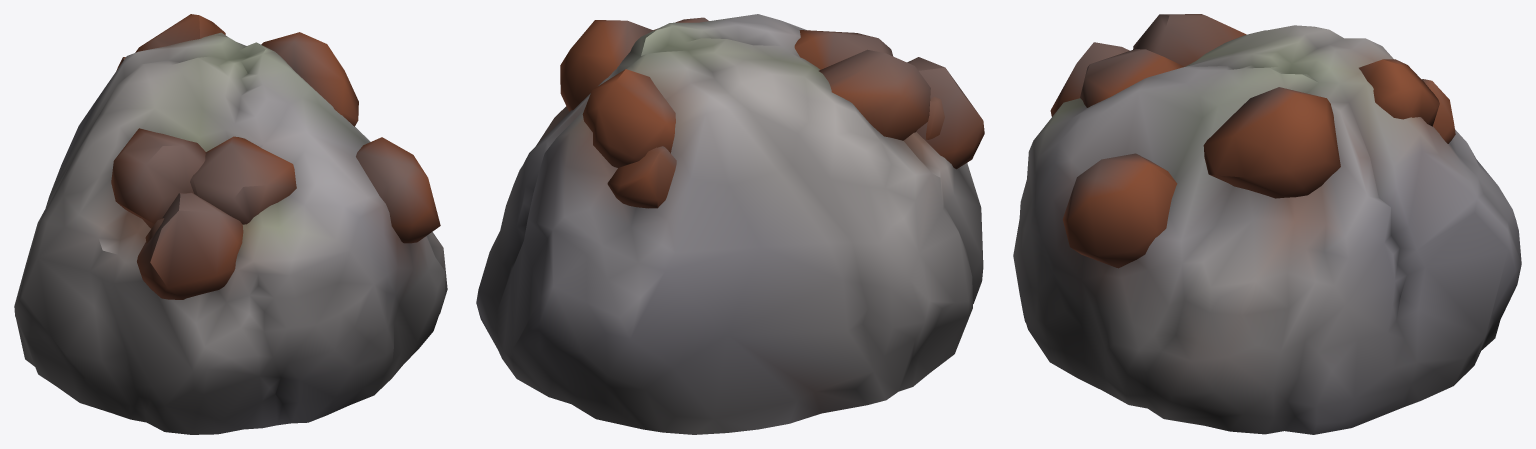
File: node-ironVein-v2.glb
The picture shows the model from 3 angles, left to right: view 1: azimuth 30°, elevation 25°; view 2: azimuth 150°, elevation 25°; view 3: azimuth 270°, elevation 25°; orthographic projection. The views are drawn at different scales.
Parts seen in each view (by area): view 1: 0_vein.001; view 2: 0_vein.001; view 3: 0_vein.001.
Part boxes in pixels (<box>): 0_vein.001: <box>14,14,447,434</box>; 0_vein.001: <box>476,14,984,434</box>; 0_vein.001: <box>1013,14,1521,434</box>.
Size of the model in its own units: 1.92 by 1.28 by 2.01.
